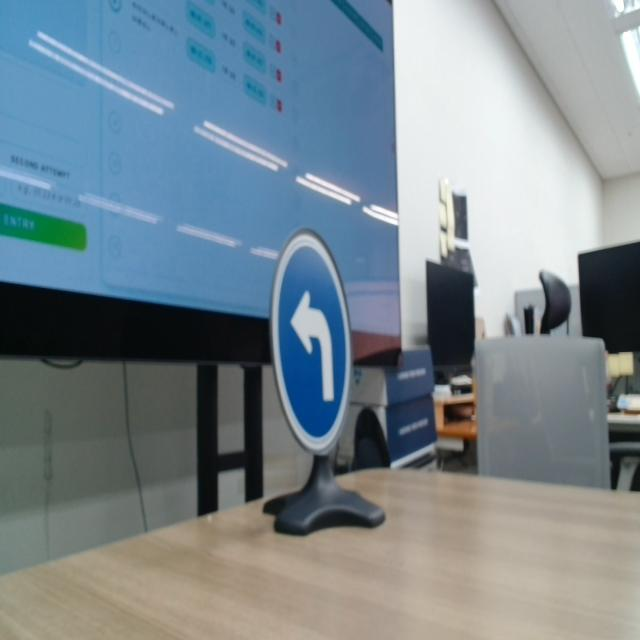left_direction: (271, 223, 377, 475)
